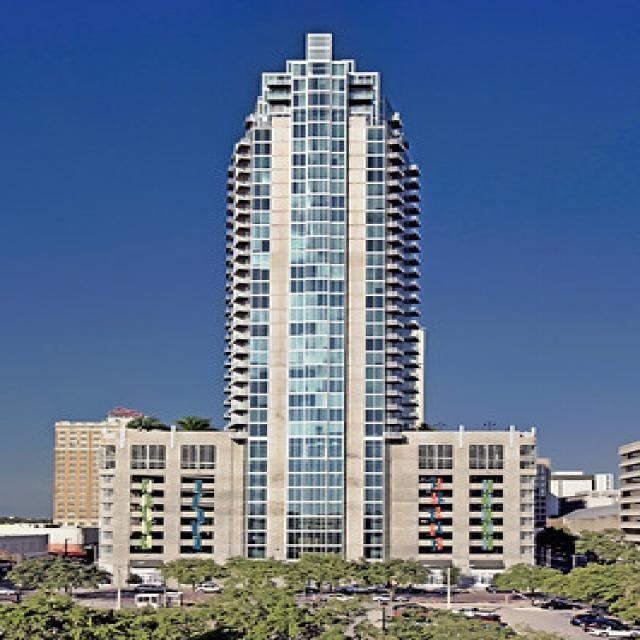Normal_building: (212, 22, 426, 580)
